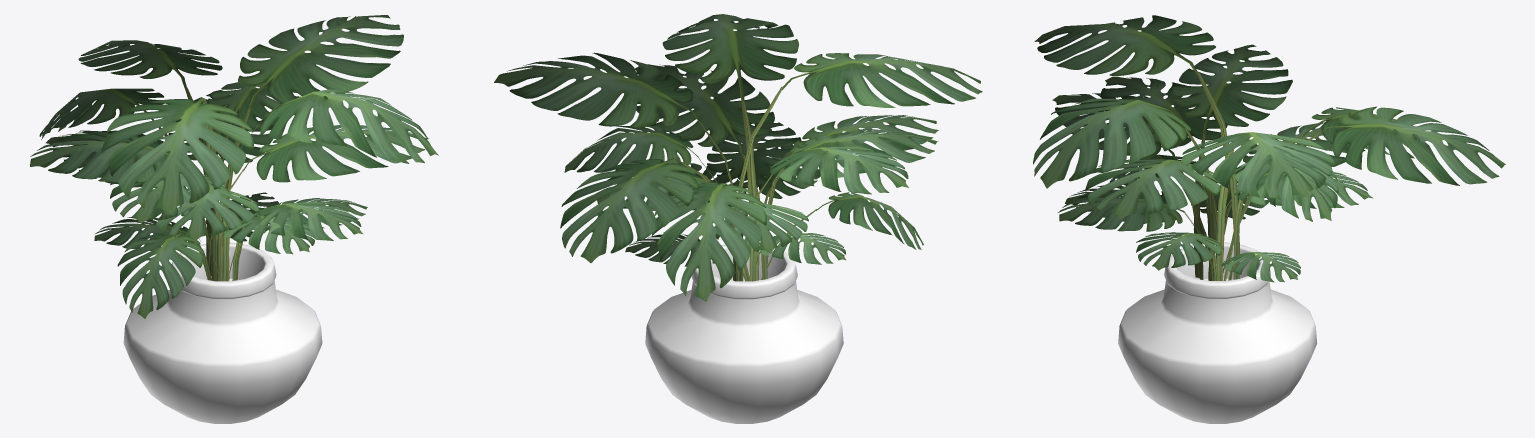
Rendered from SM_Potted_Monstera.fbx.
The picture shows the model from 3 angles, left to right: view 1: azimuth 30°, elevation 25°; view 2: azimuth 150°, elevation 25°; view 3: azimuth 270°, elevation 25°; orthographic projection.
Visible parts, largest first — view 1: SM_Potted_Monstera_LOD0; view 2: SM_Potted_Monstera_LOD0; view 3: SM_Potted_Monstera_LOD0.
Part boxes in pixels (x1,y1,x2,y2): SM_Potted_Monstera_LOD0: (30,15,438,423); SM_Potted_Monstera_LOD0: (494,14,982,423); SM_Potted_Monstera_LOD0: (1033,15,1505,423).
Bounding box in the file's own units: 102 × 106 × 79.61.
Materials: 2 (1 with a texture image).
